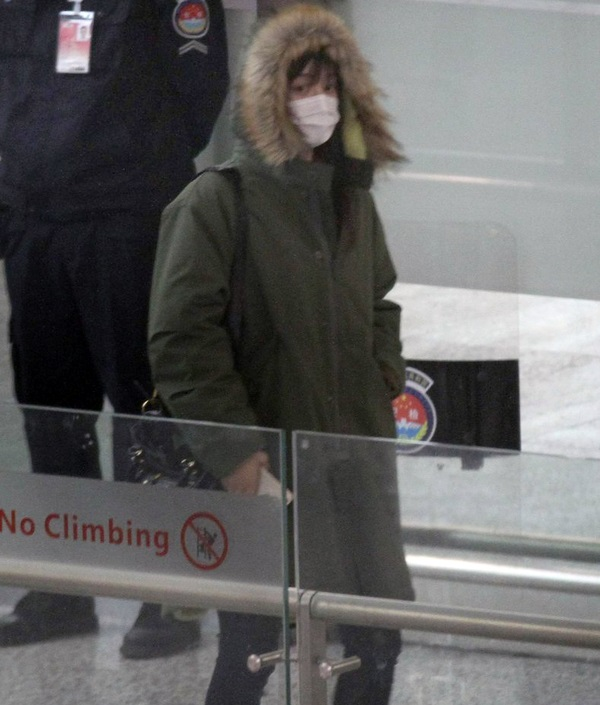face_mask: (282, 49, 339, 147)
